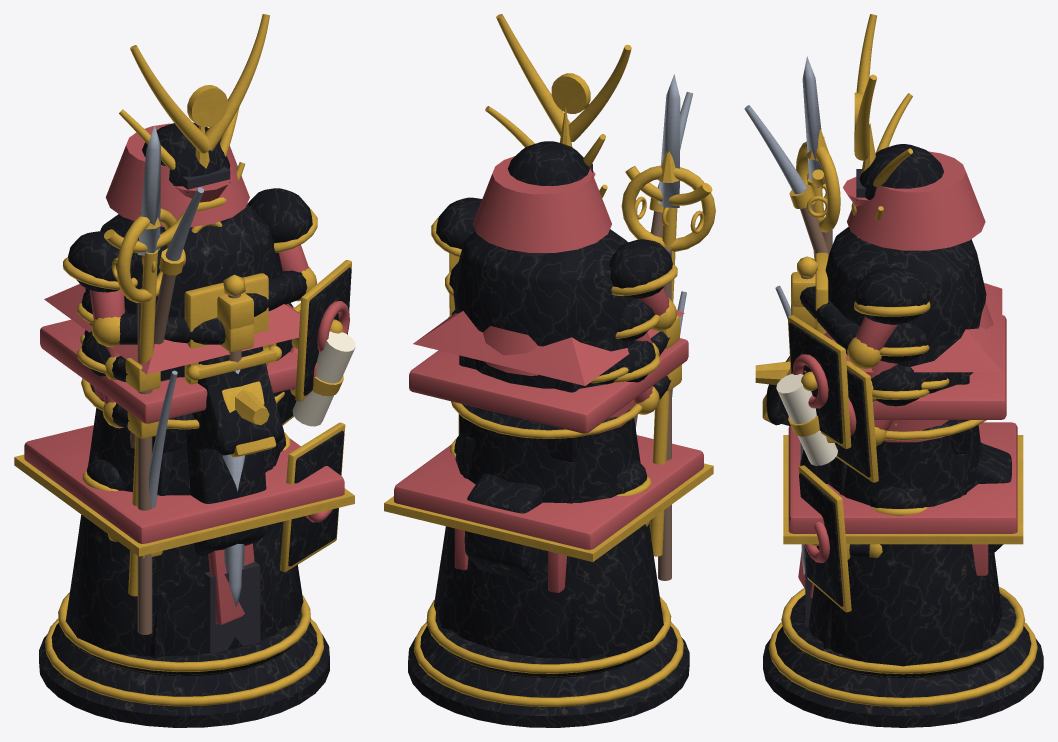
File: samurai_black.glb
3 views of the same model, side by side, from view 1: azimuth 30°, elevation 25°; view 2: azimuth 150°, elevation 25°; view 3: azimuth 270°, elevation 25° (orthographic). The views are drawn at different scales.
Visible parts, largest first — view 1: Mesh_Body_k, Plinth_k, Mesh_Body_r, Mesh_Head_k, Mesh_WeaponArm_r, Mesh_Body_n, Mesh_WeaponArm_k, Mesh_WeaponArm_b, Mesh_WeaponArm_q, Mesh_ShieldArm_k, Mesh_ShieldArm_p, Mesh_ShieldArm_q (+7 smaller); view 2: Mesh_Body_k, Plinth_k, Mesh_Body_r, Mesh_WeaponArm_r, Mesh_Head_k, Mesh_WeaponArm_b, Mesh_WeaponArm_q, Mesh_Body_n, Mesh_WeaponArm_k, Mesh_Head_p, Mesh_ShieldArm_k, Mesh_WeaponArm_n (+3 smaller); view 3: Mesh_Body_k, Plinth_k, Mesh_Body_r, Mesh_Head_k, Mesh_WeaponArm_r, Mesh_ShieldArm_k, Mesh_ShieldArm_q, Mesh_ShieldArm_p, Mesh_ShieldArm_b, Mesh_ShieldArm_n, Mesh_Body_n, Mesh_WeaponArm_b (+5 smaller).
Part boxes in pixels (<box>): Mesh_Body_k: <box>65,205,303,656</box>; Plinth_k: <box>39,592,329,727</box>; Mesh_Body_r: <box>14,425,354,658</box>; Mesh_Head_k: <box>105,14,269,227</box>; Mesh_WeaponArm_r: <box>40,284,317,452</box>; Mesh_Body_n: <box>186,346,283,555</box>; Mesh_WeaponArm_k: <box>63,231,281,606</box>; Mesh_WeaponArm_b: <box>77,208,185,634</box>; Mesh_WeaponArm_q: <box>77,125,193,596</box>; Mesh_ShieldArm_k: <box>217,188,317,329</box>; Mesh_ShieldArm_p: <box>279,422,345,572</box>; Mesh_ShieldArm_q: <box>282,260,351,401</box>; Mesh_Body_k: <box>434,229,663,658</box>; Plinth_k: <box>408,596,689,727</box>; Mesh_Body_r: <box>384,435,713,661</box>; Mesh_WeaponArm_r: <box>409,310,688,462</box>; Mesh_Head_k: <box>472,14,631,252</box>; Mesh_WeaponArm_b: <box>613,151,715,580</box>; Mesh_WeaponArm_q: <box>615,74,712,556</box>; Mesh_Body_n: <box>454,473,566,592</box>; Mesh_WeaponArm_k: <box>609,239,677,331</box>; Mesh_Head_p: <box>451,401,642,438</box>; Mesh_ShieldArm_k: <box>431,197,482,257</box>; Mesh_WeaponArm_n: <box>590,92,692,428</box>; Mesh_Body_k: <box>804,226,1002,666</box>; Plinth_k: <box>763,586,1043,727</box>; Mesh_Body_r: <box>783,422,1023,649</box>; Mesh_Head_k: <box>843,14,985,250</box>; Mesh_WeaponArm_r: <box>755,283,1006,453</box>; Mesh_ShieldArm_k: <box>791,267,930,369</box>; Mesh_ShieldArm_q: <box>787,315,929,448</box>; Mesh_ShieldArm_p: <box>798,465,927,612</box>; Mesh_ShieldArm_b: <box>776,364,929,465</box>; Mesh_ShieldArm_n: <box>835,361,949,482</box>; Mesh_Body_n: <box>762,356,1011,575</box>; Mesh_WeaponArm_b: <box>796,129,840,252</box>.
Bounding box in the file's own units: 0.7865 × 1.86 × 0.8101.
7 materials, 3 textured.
